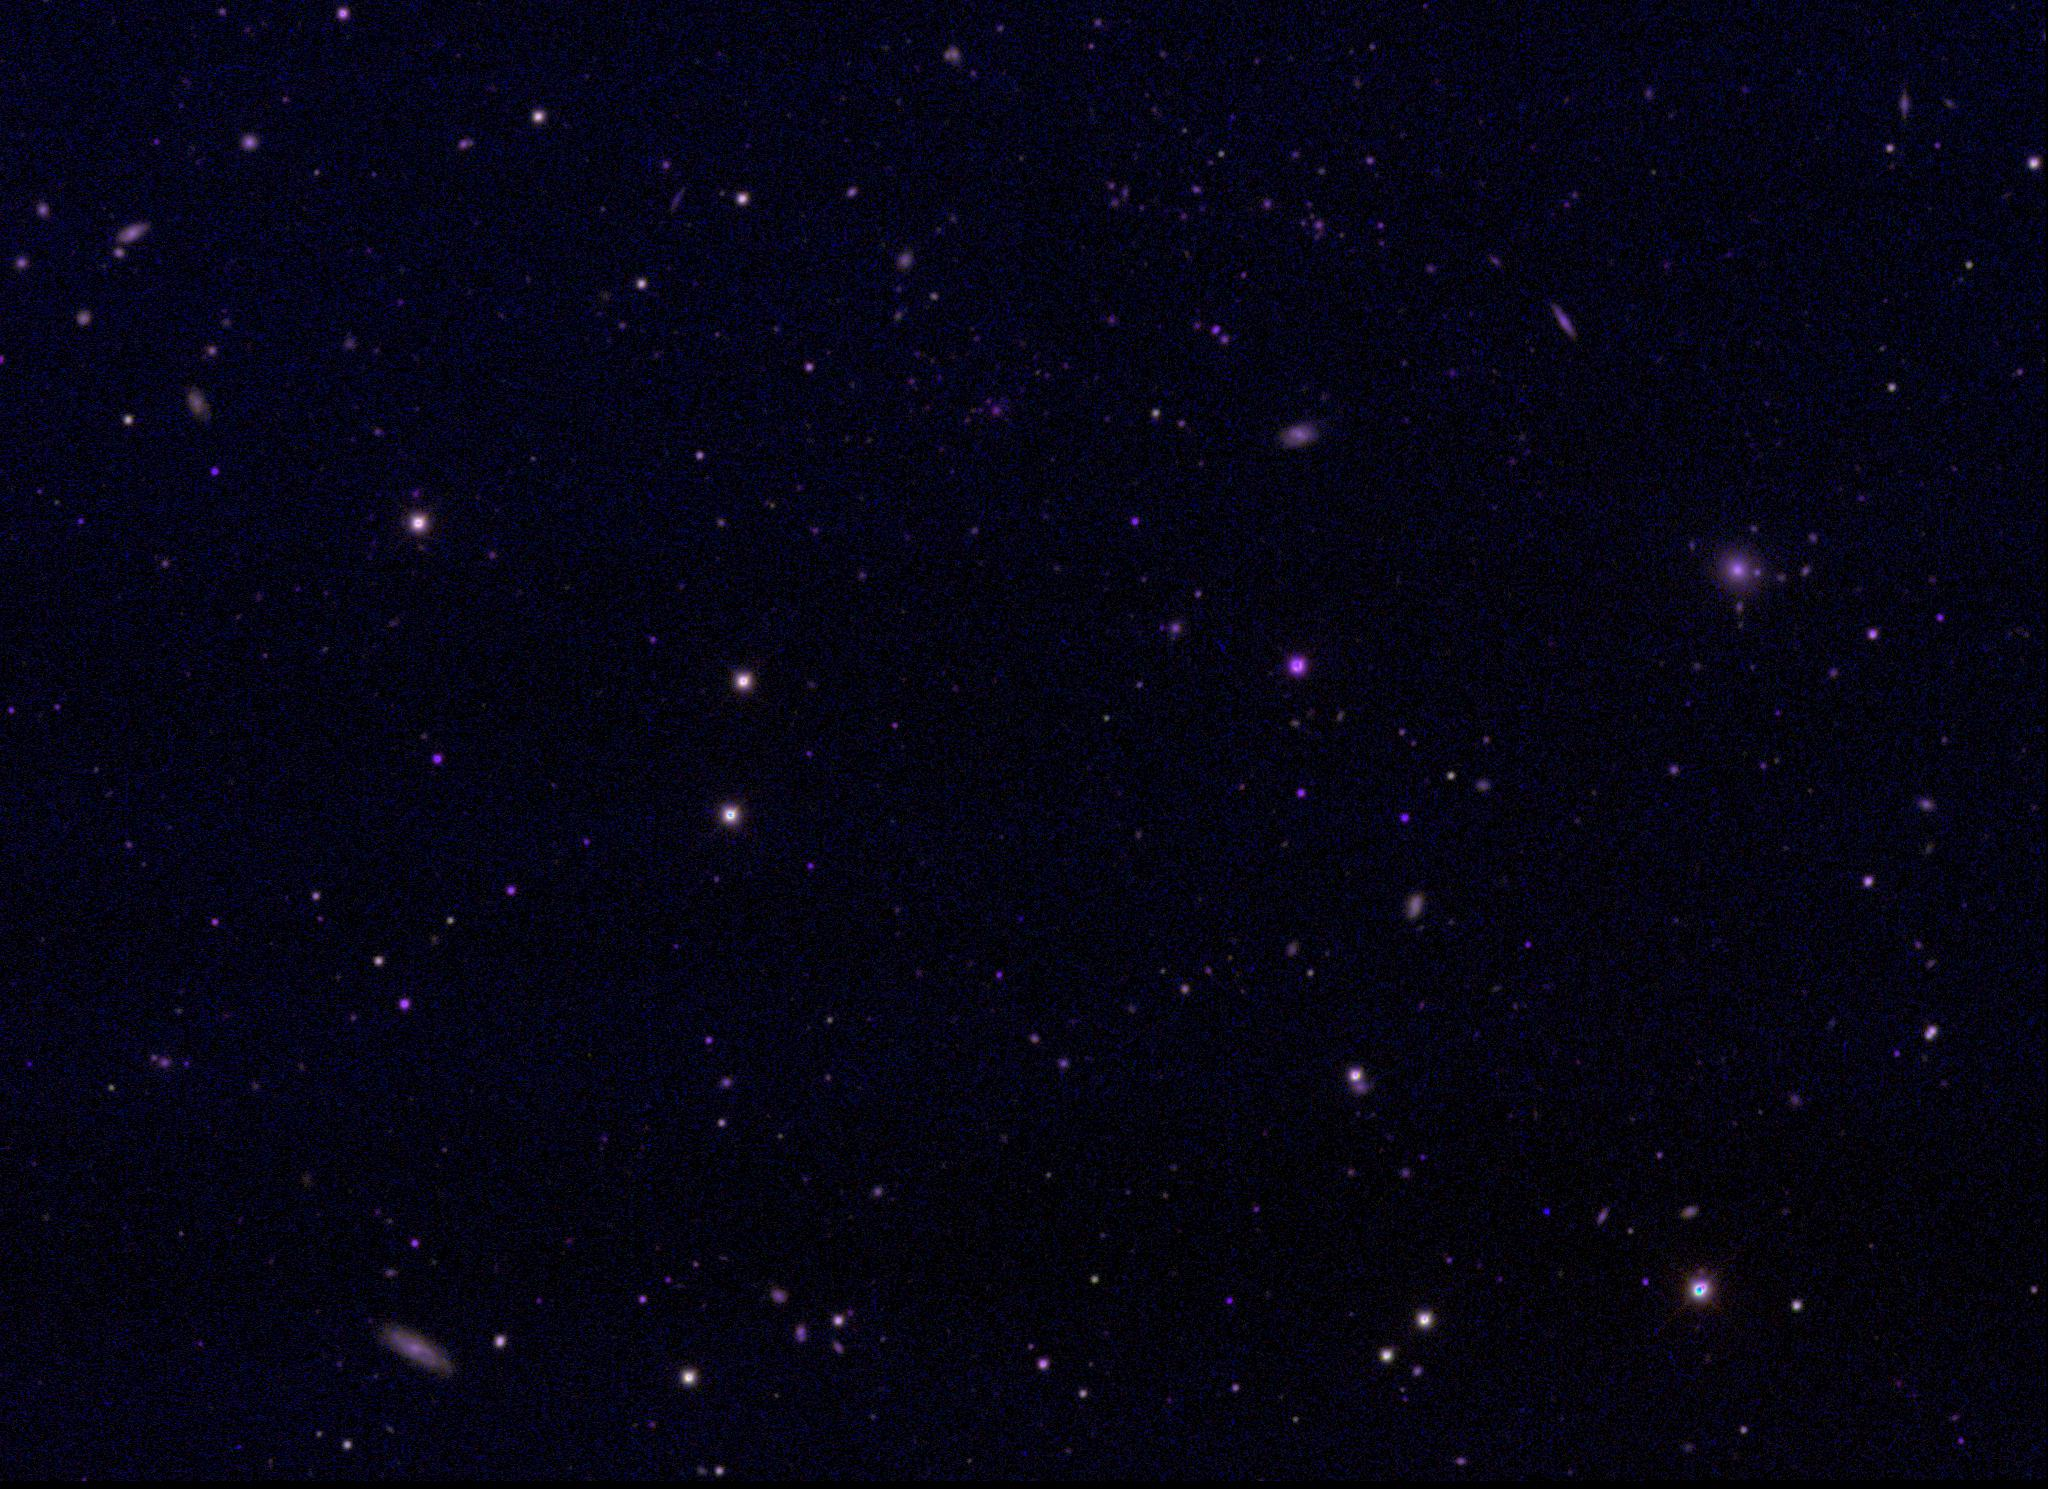L: (1541, 1203, 1553, 1217)
